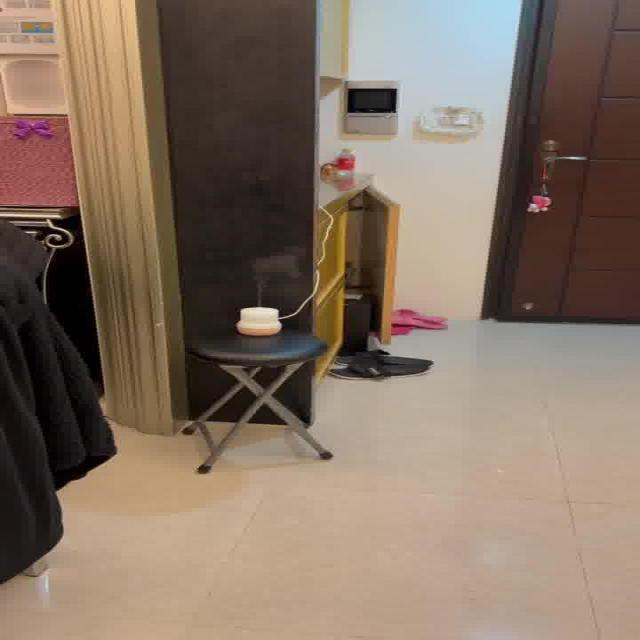fire: (247, 246, 309, 296)
